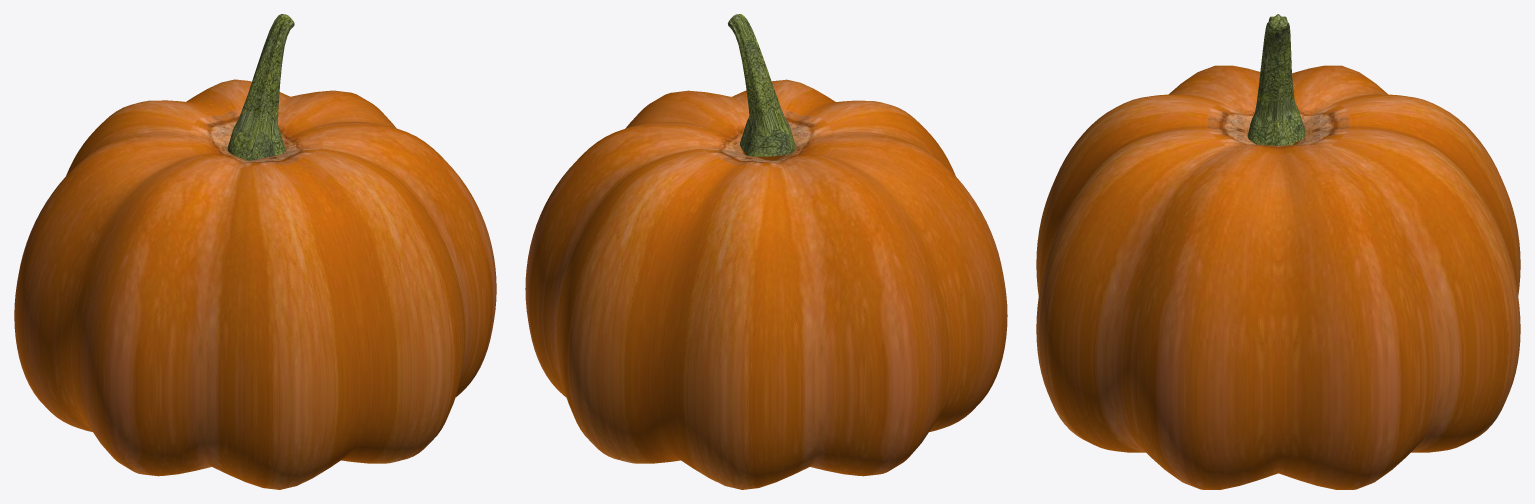
Rendered from punkin001.gltf.
3 renders of one model, left to right at view 1: azimuth 30°, elevation 25°; view 2: azimuth 150°, elevation 25°; view 3: azimuth 270°, elevation 25°, orthographic. The views are drawn at different scales.
Visible parts, largest first — view 1: Sphere.001; view 2: Sphere.001; view 3: Sphere.001.
Part boxes in pixels (box(x1,y1,x2,y2)): Sphere.001: box(14, 14, 496, 489); Sphere.001: box(525, 14, 1007, 489); Sphere.001: box(1036, 14, 1520, 489).
Size of what is drawn, in the model's own units: 3.02 by 2.94 by 3.02.
Materials: 2 (2 with a texture image).
